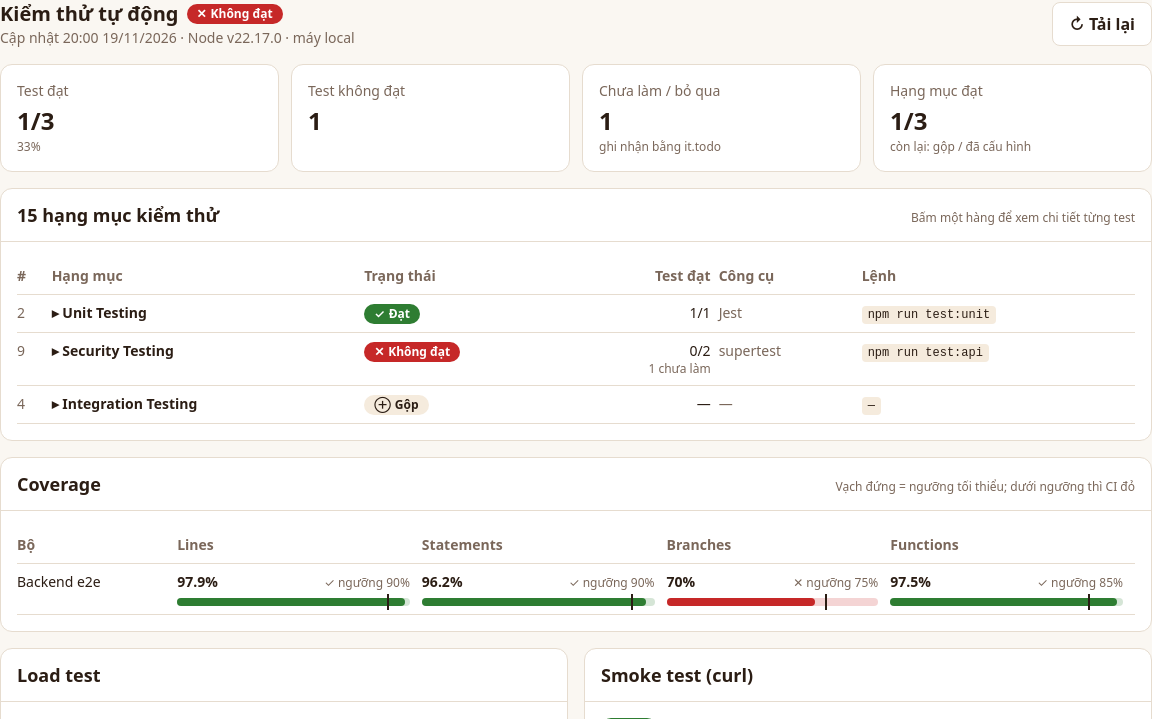
Test: Trang báo cáo kiểm thử (/quality) › hạng mục gộp hiện lý do
Click the button "▸ Integration Testing" at (125, 404), box [52,394,197,414]
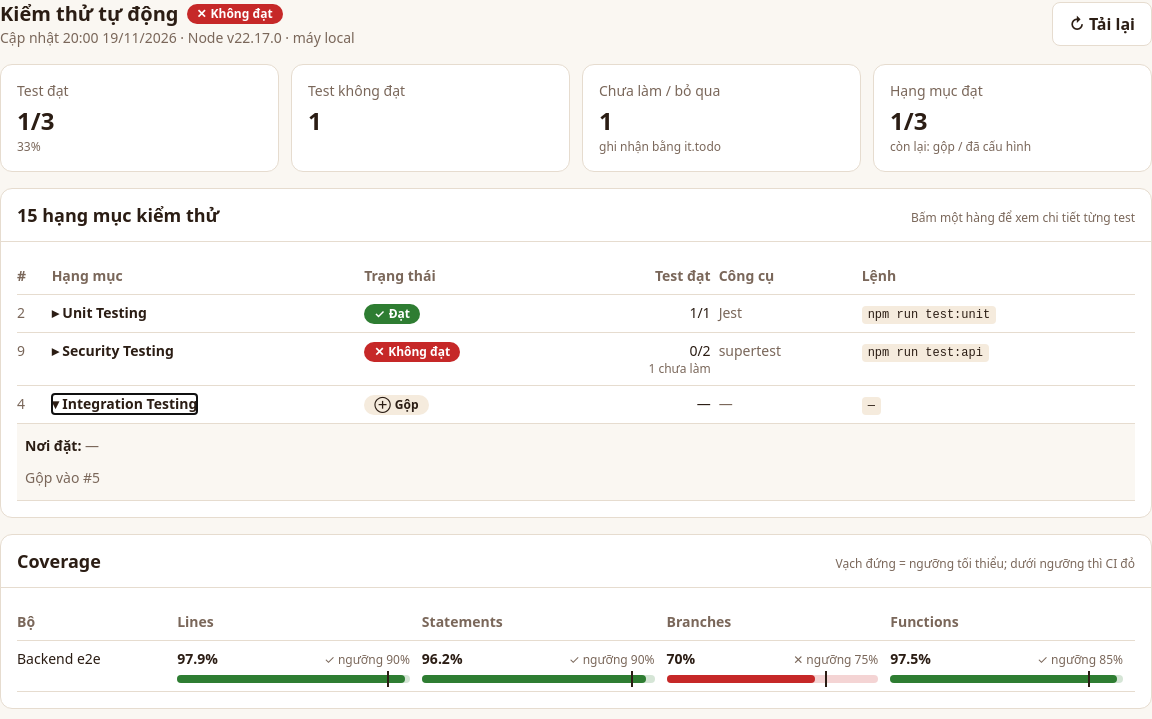
Check: the text "Gộp vào #5" is shown, box [25,468,100,487]
